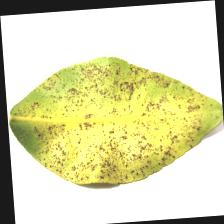canker: (56, 83, 169, 164)
